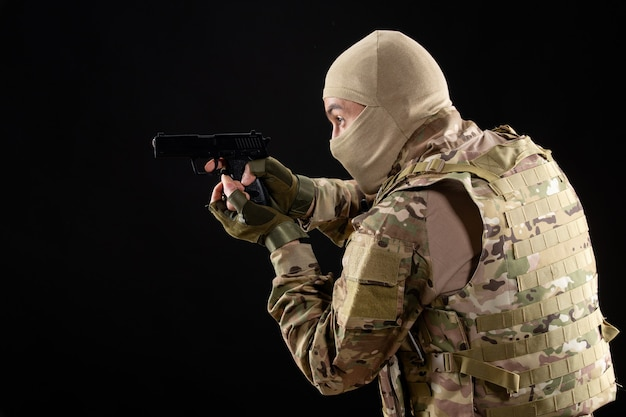gun: (151, 133, 275, 205)
